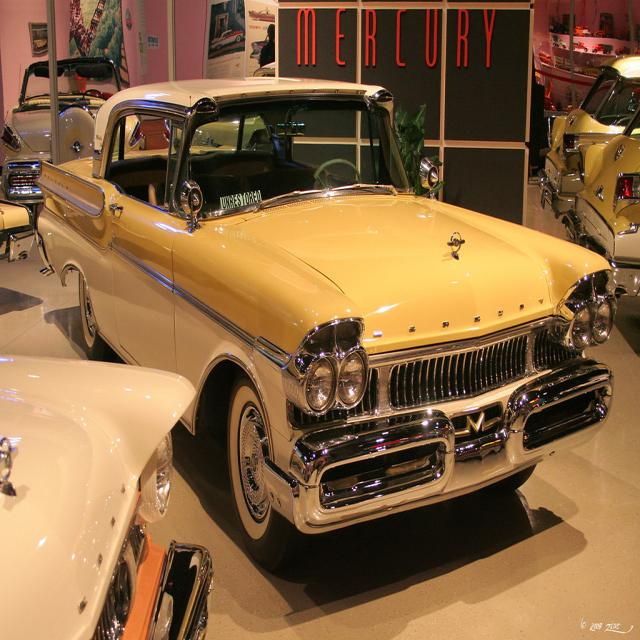car: (27, 76, 621, 553)
